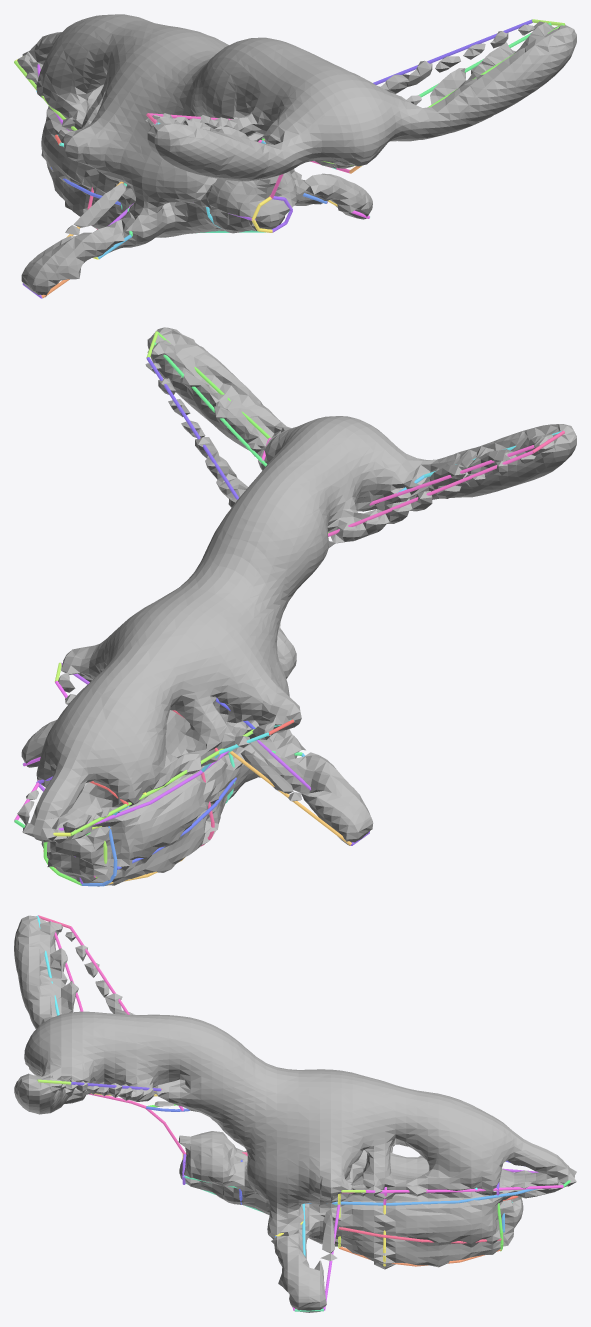
The model's file is ils_spacecraft_29.gltf.
3 views of the same model, one above another, from view 1: azimuth 30°, elevation 25°; view 2: azimuth 150°, elevation 25°; view 3: azimuth 270°, elevation 25° (orthographic). The views are drawn at different scales.
Bounding box in the file's own units: 0.5629 × 0.3994 × 0.7824.
